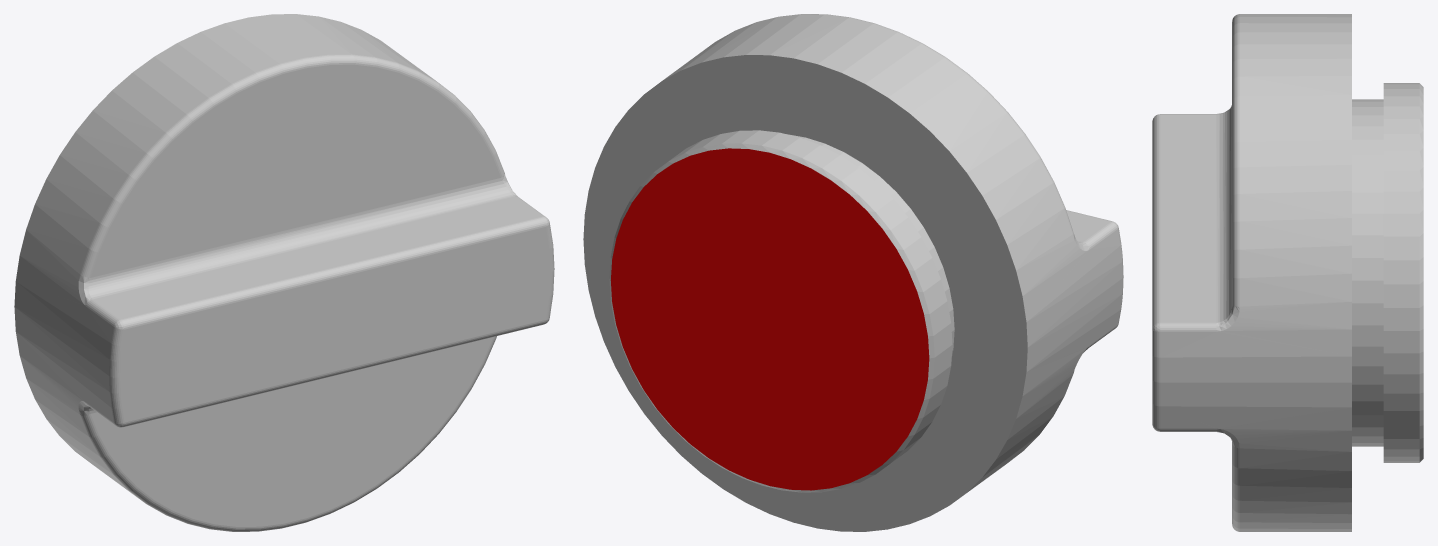
File: 184_0705_A___Tapulho_de_aco_1_1_2_pol_stp_29.obj
3 renders of one model, left to right at view 1: azimuth 30°, elevation 25°; view 2: azimuth 150°, elevation 25°; view 3: azimuth 270°, elevation 25°, orthographic.
Visible parts, largest first — view 1: Object1; view 2: Object1; view 3: Object1.
Part boxes in pixels (x1=…): Object1: x1=14, y1=14, x2=554, y2=531; Object1: x1=583, y1=14, x2=1123, y2=531; Object1: x1=1152, y1=14, x2=1423, y2=531.
Size of the model in its own units: 65 by 64.9 by 34.
